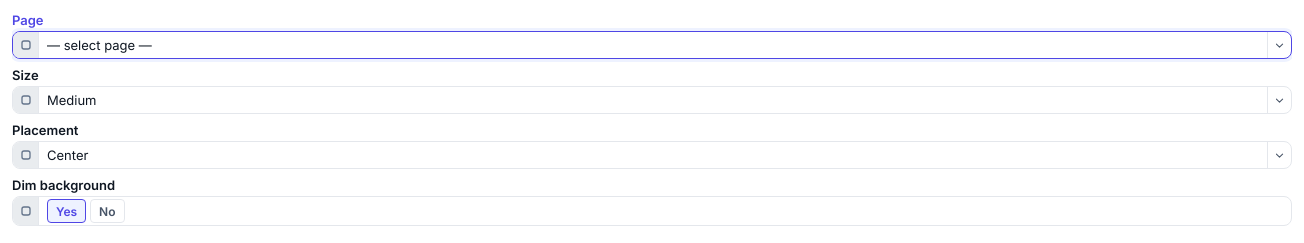
overlay target pickers offer one root each › Open Page As Overlay lists the navigable pages only, and takes no input parameters
Step 1. Click the dropdown labelled "— select page —" → (99, 45), box [47,32,1291,58]
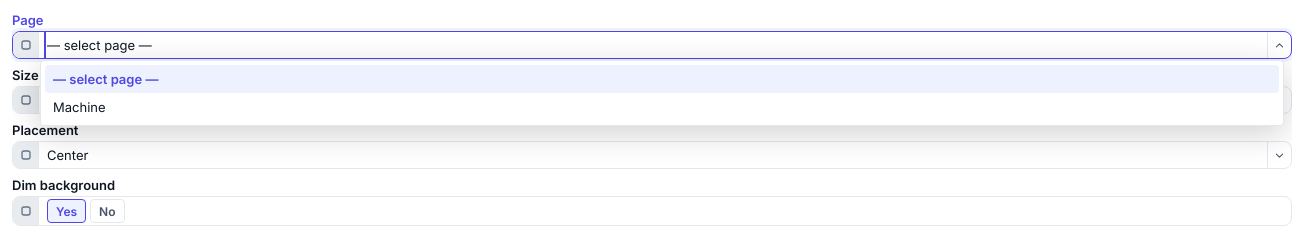
Expected: the option "Machine" is shown, [53,99,106,115]
